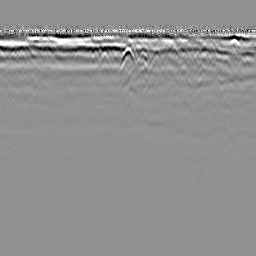cavity: (119, 44, 137, 65)
